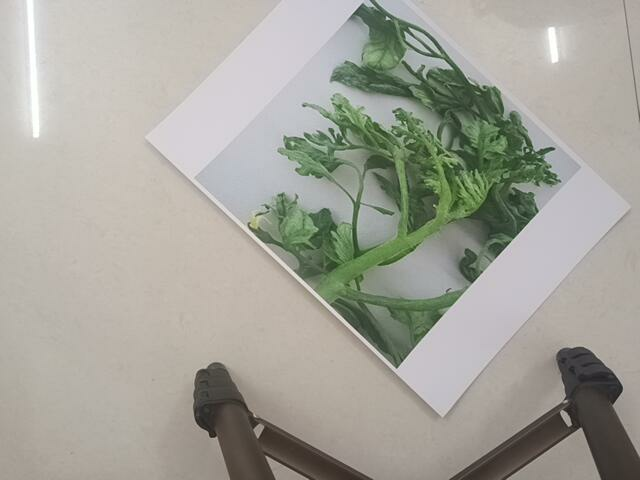Tomamto_Mosaic_virus: (274, 18, 540, 355)
